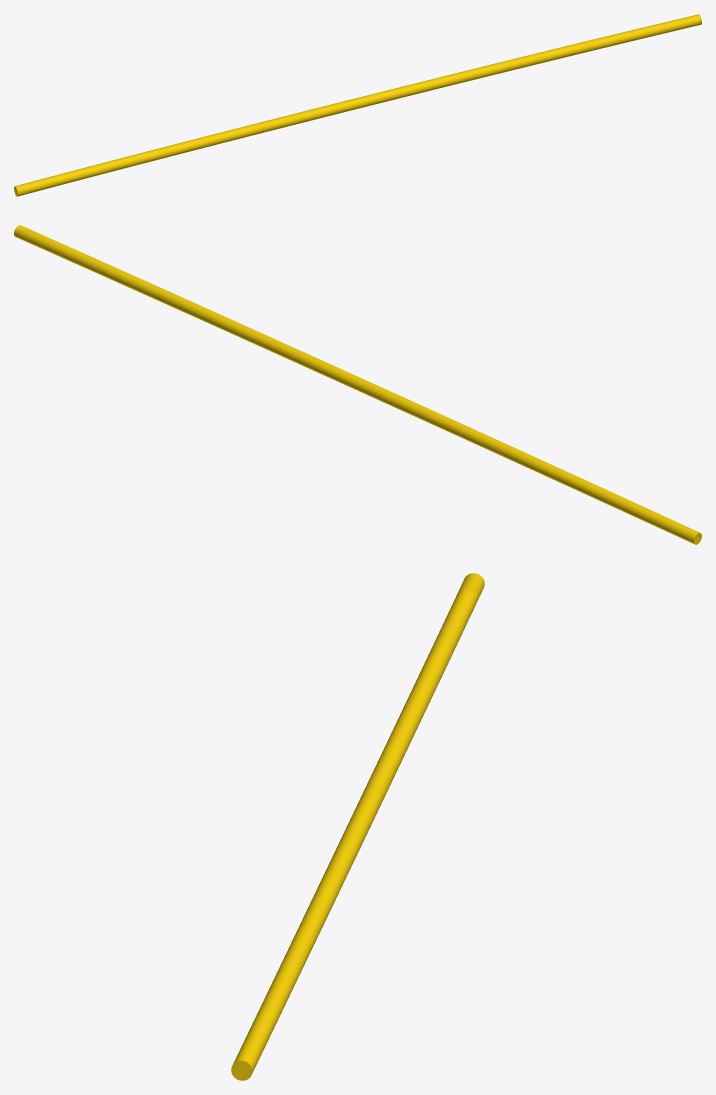
File: Event_420107950_track_43.fbx
The picture shows the model from 3 angles, top to bottom: view 1: azimuth 30°, elevation 25°; view 2: azimuth 150°, elevation 25°; view 3: azimuth 270°, elevation 25°; orthographic projection. The views are drawn at different scales.
Visible parts, largest first — view 1: Model; view 2: Model; view 3: Model.
Boxes of the visible parts, box(x1,y1,x2,y2) form: Model: box(14, 14, 701, 196); Model: box(14, 225, 701, 544); Model: box(231, 573, 484, 1080).
Size of the model in its own units: 2.69 by 0.2928 by 0.4706.
